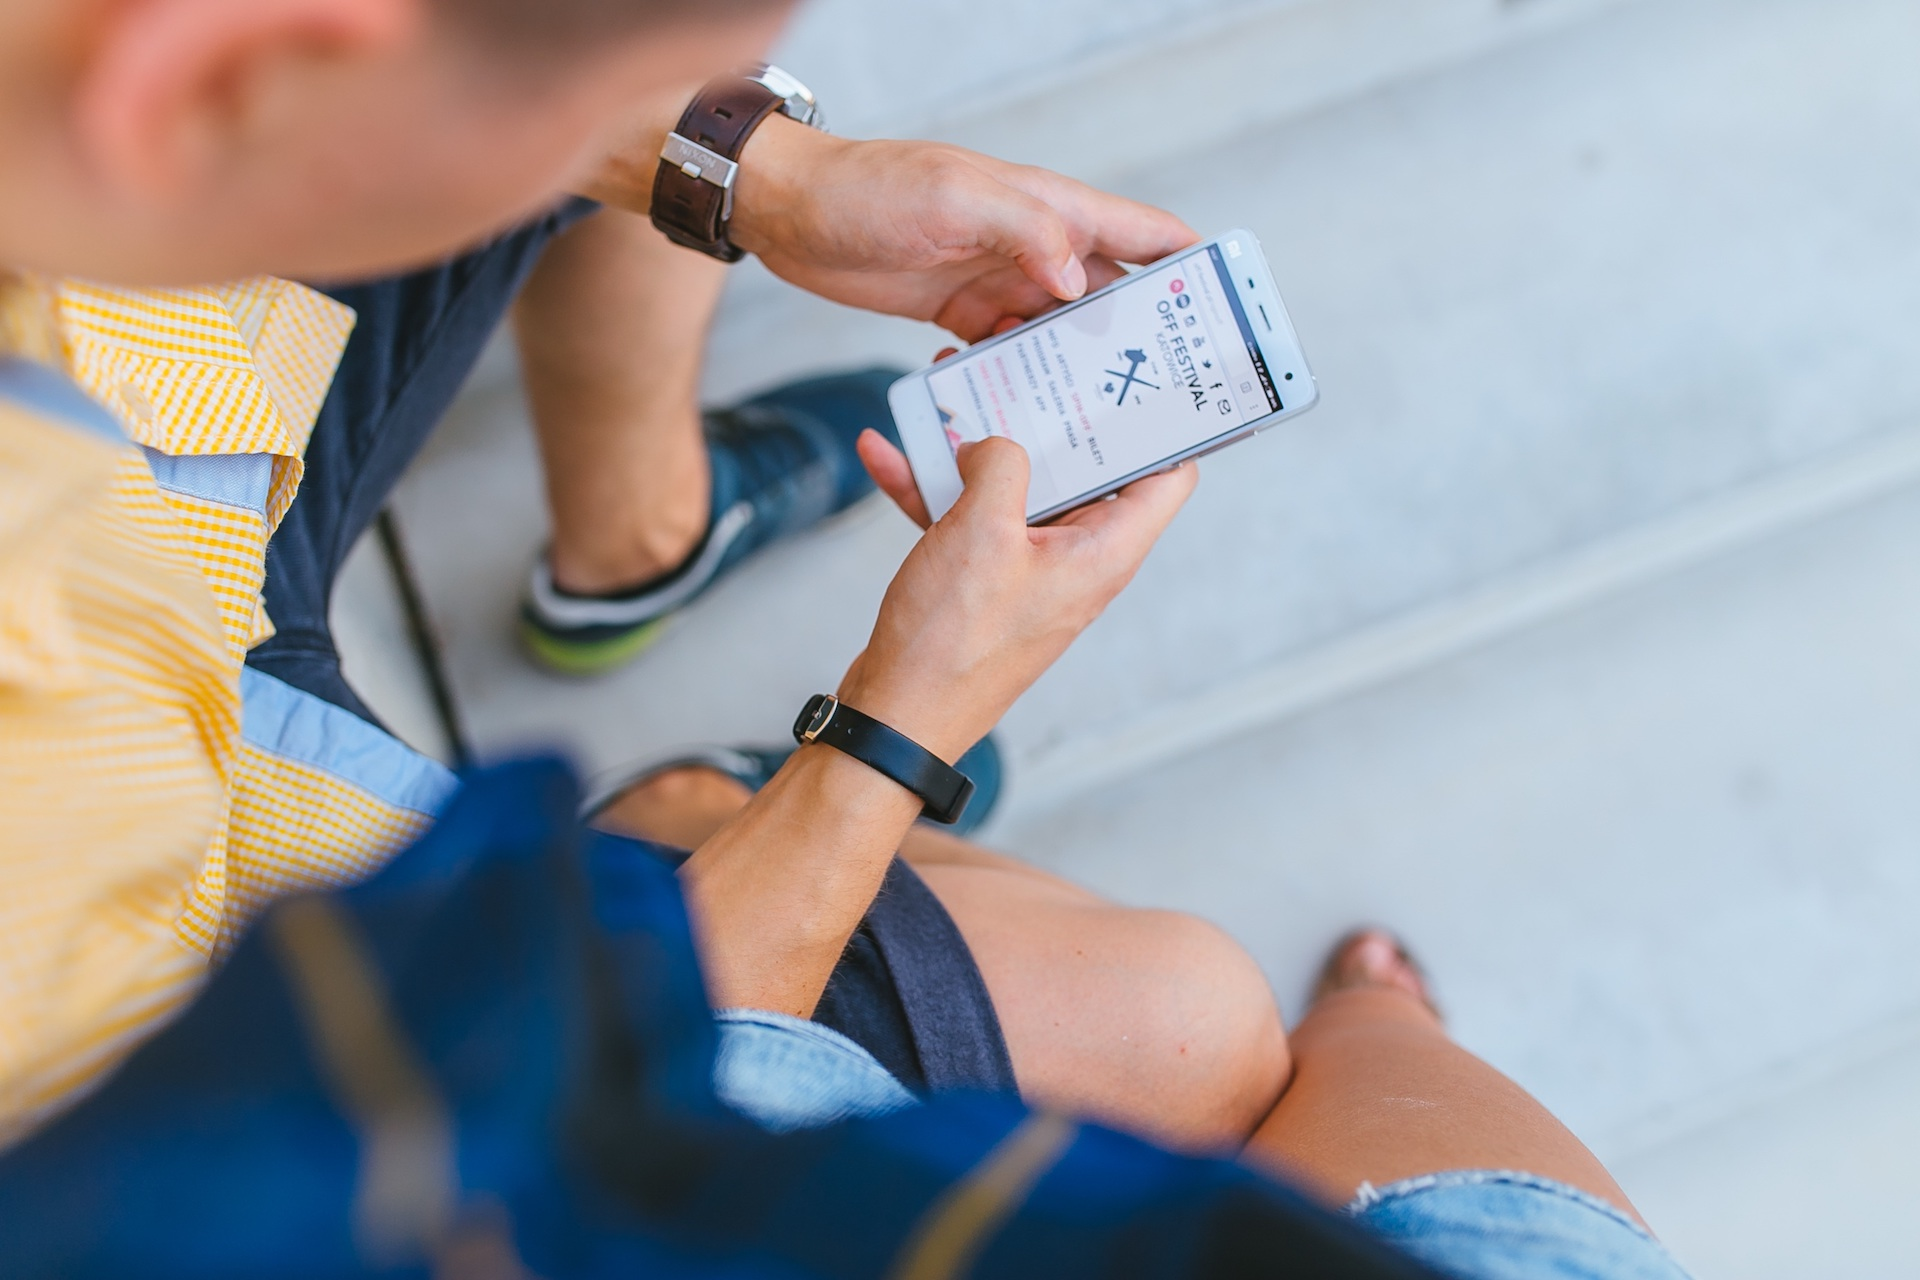smartphone: (886, 224, 1321, 531)
